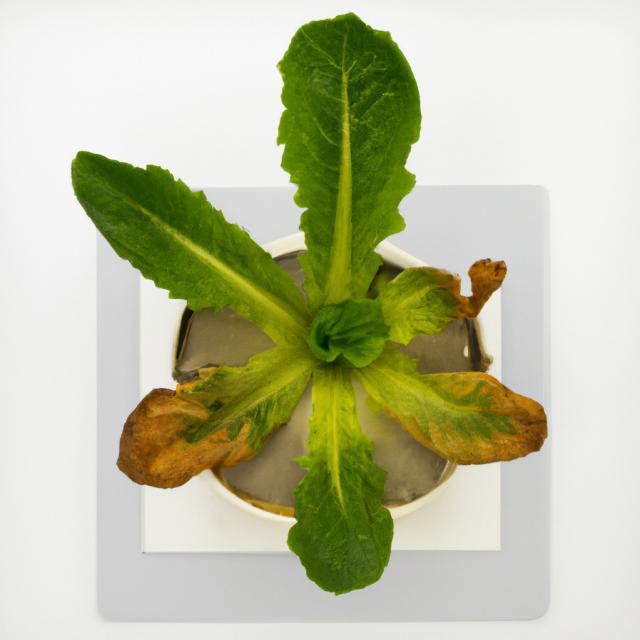-K: (65, 8, 555, 604)
